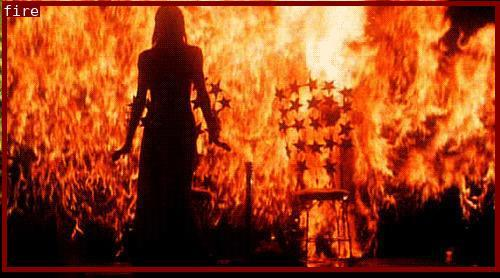fire: (1, 0, 498, 270)
